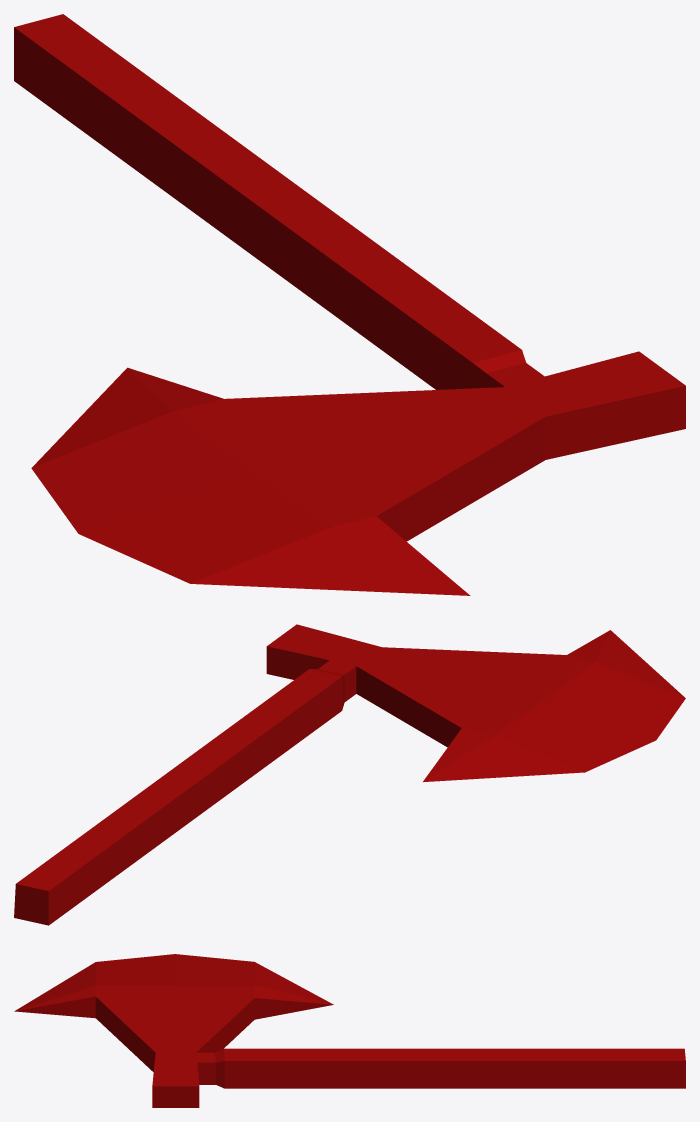
The model's file is habilidadVikingo.obj.
3 views of the same model, one above another, from view 1: azimuth 30°, elevation 25°; view 2: azimuth 150°, elevation 25°; view 3: azimuth 270°, elevation 25° (orthographic). The views are drawn at different scales.
Parts seen in each view (by area): view 1: Plane_Plane.001; view 2: Plane_Plane.001; view 3: Plane_Plane.001.
Part boxes in pixels (x1,y1,x2,y2): Plane_Plane.001: (14, 14, 685, 595); Plane_Plane.001: (14, 624, 685, 925); Plane_Plane.001: (14, 954, 685, 1107).
Size of the model in its own units: 2.13 by 0.1878 by 4.23.
